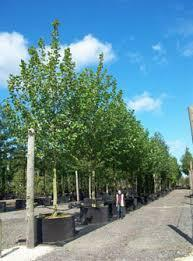tree: (12, 20, 93, 215)
